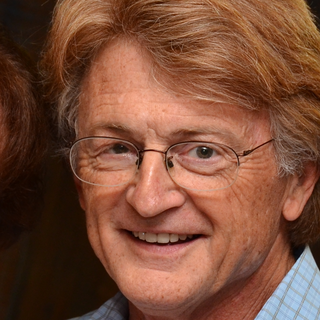eye: (176, 139, 227, 166), (95, 136, 138, 161)
